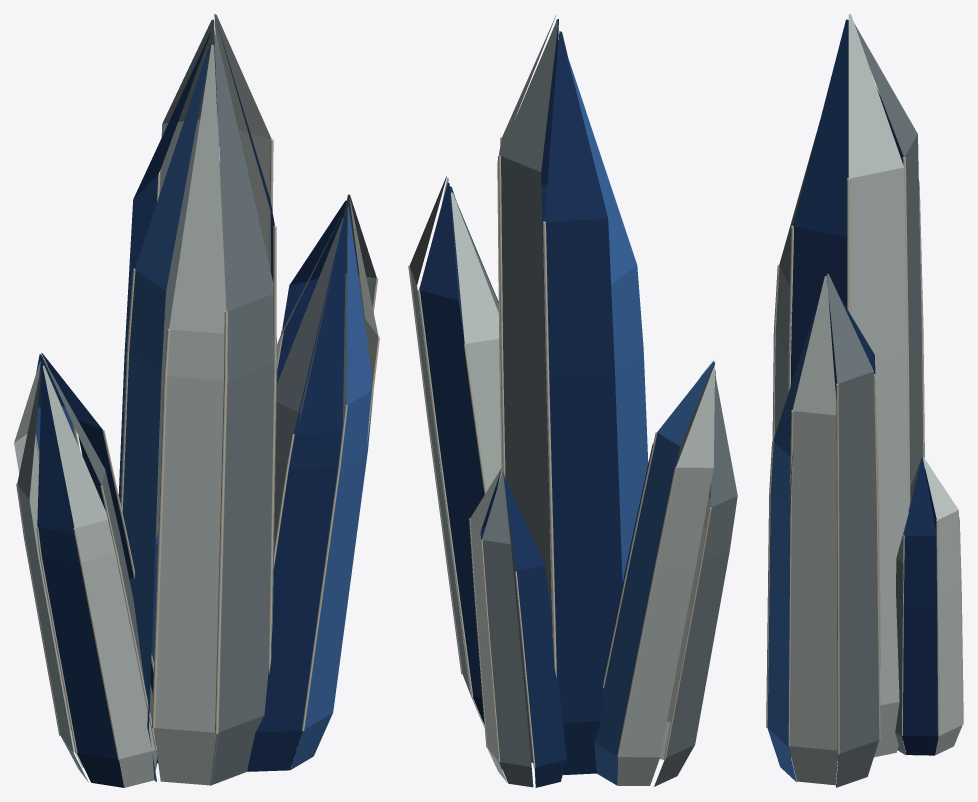
File: landmark_cryo.glb
3 views of the same model, side by side, from view 1: azimuth 30°, elevation 25°; view 2: azimuth 150°, elevation 25°; view 3: azimuth 270°, elevation 25° (orthographic).
Visible parts, largest first — view 1: landmark_cryo; view 2: landmark_cryo; view 3: landmark_cryo.
Part boxes in pixels (x1=…): landmark_cryo: x1=14, y1=14, x2=379, y2=787; landmark_cryo: x1=408, y1=15, x2=737, y2=787; landmark_cryo: x1=766, y1=14, x2=963, y2=787.
Size of the model in its own units: 10.61 by 22 by 5.37.
